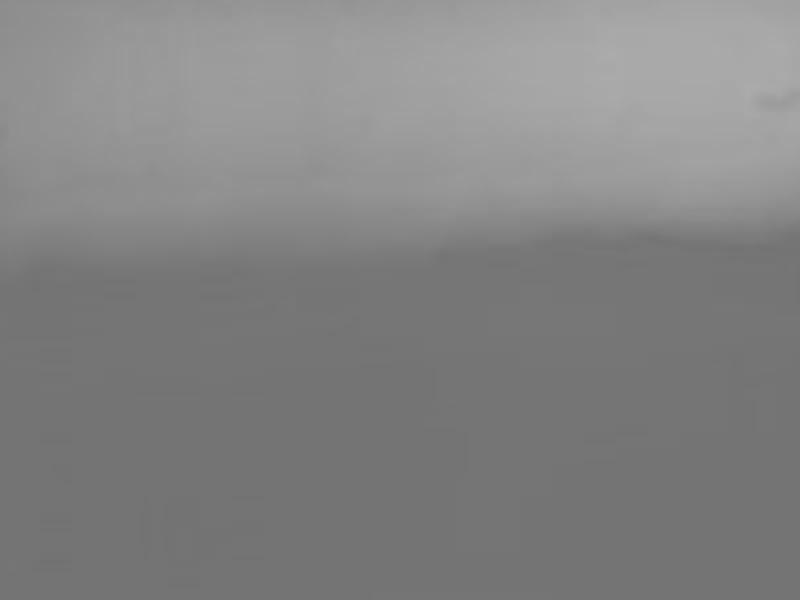defect: (754, 92, 780, 112), (781, 90, 800, 111)
